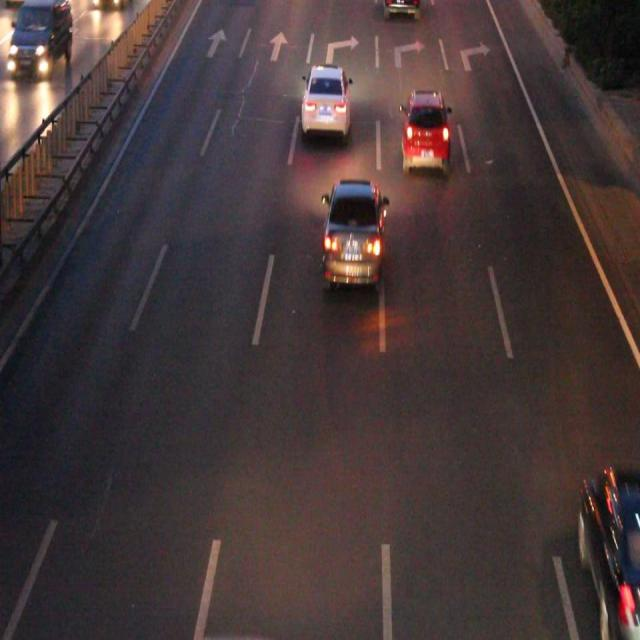car: (580, 470, 640, 622), (324, 182, 383, 281), (401, 93, 448, 168), (301, 67, 349, 132)
